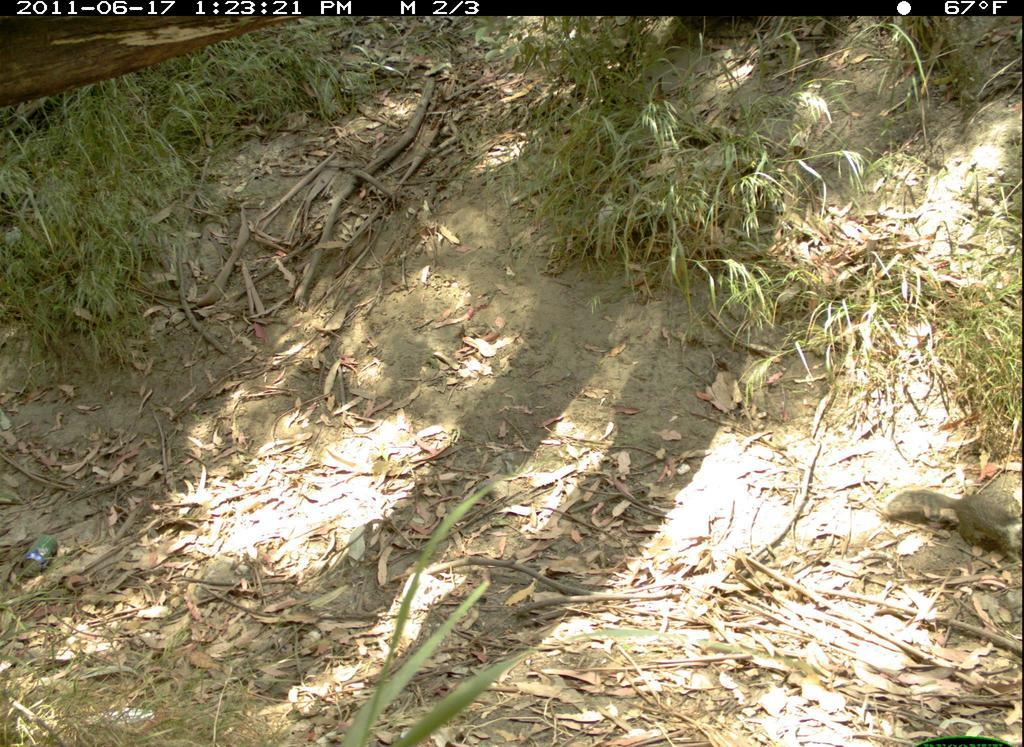squirrel: (876, 472, 1022, 560)
